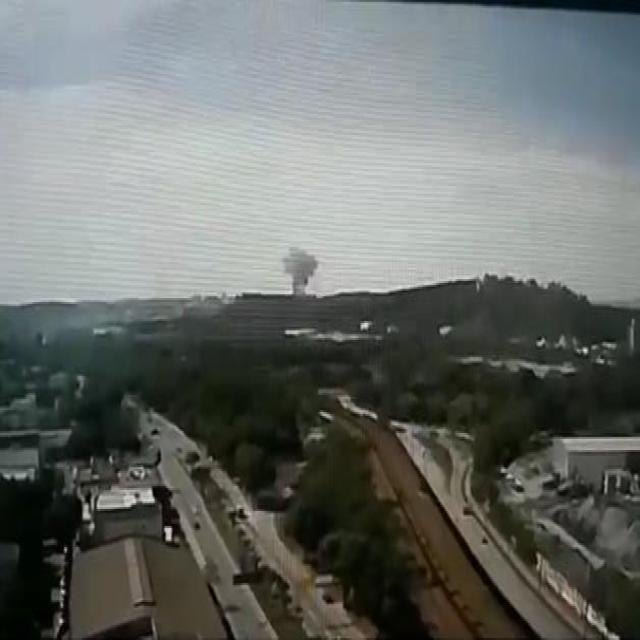Smoke: (277, 247, 326, 296)
